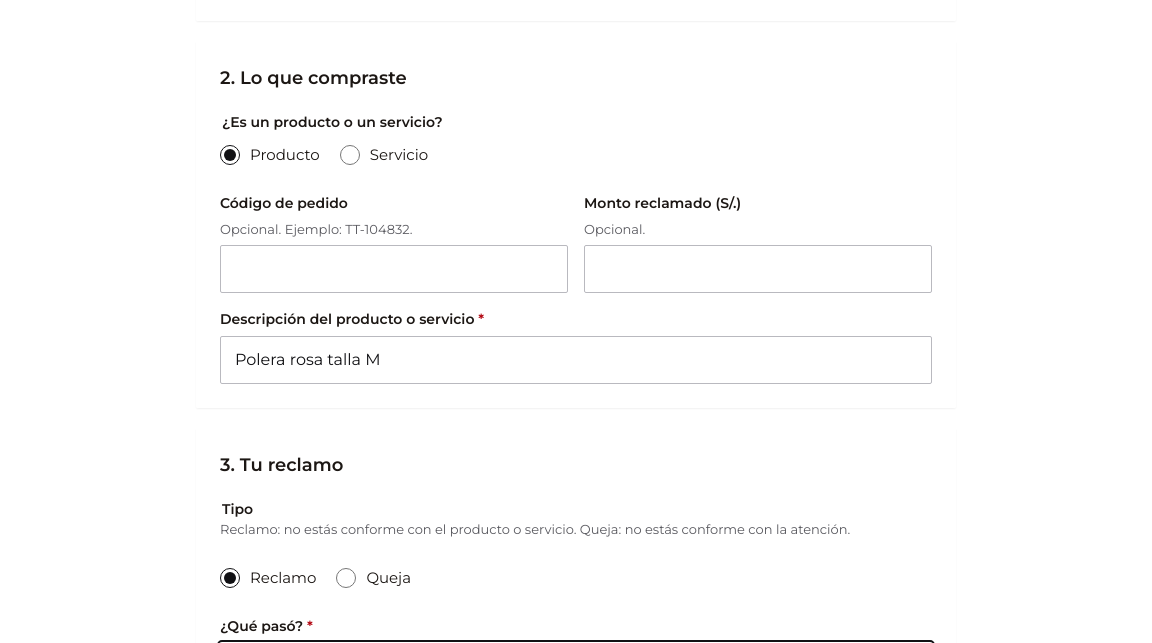
LibroReclamacionesPage › registra la hoja, muestra el código y permite empezar otra vacía
Earlier steps of the test are not shown.
(page scrolled)
Type keys "Llegó con una costura abierta en la manga."
(page scrolled)
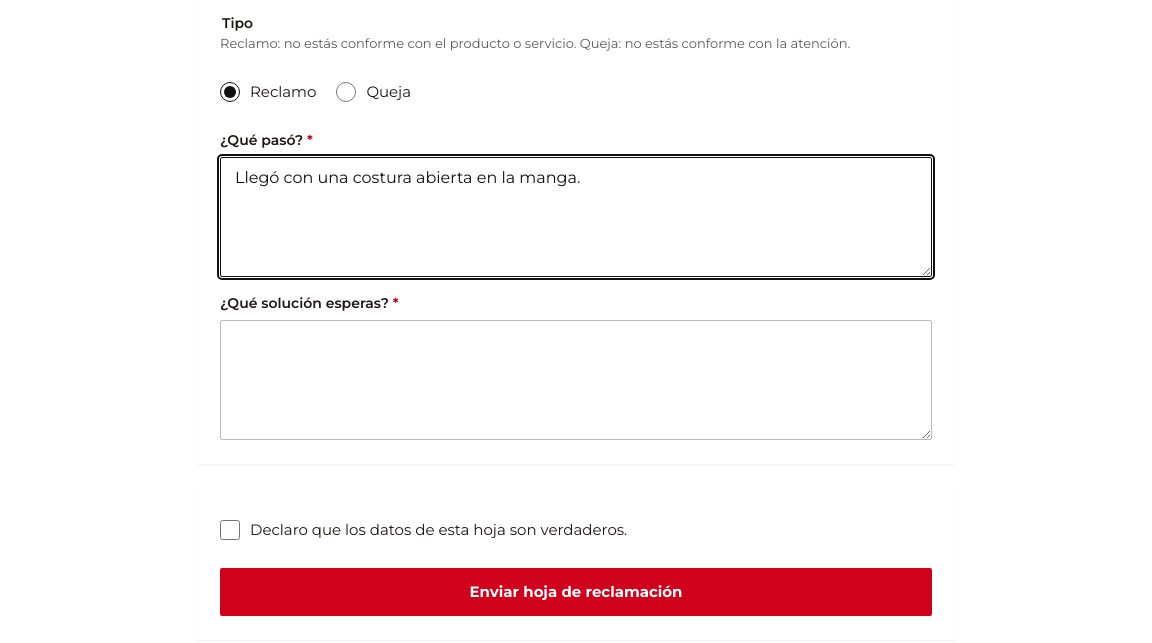
Click the text box labelled "¿Qué solución esperas?" at {"x": 576, "y": 380}, box top-left (220, 320), bottom-right (932, 440)
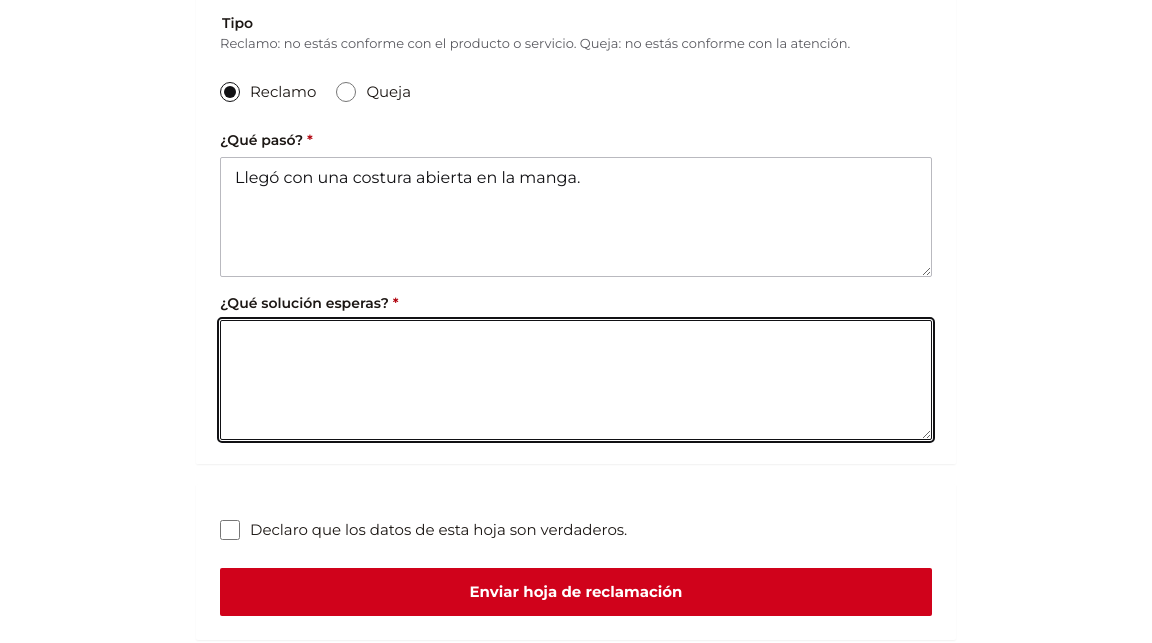
Type keys "Cambio por otra igual."
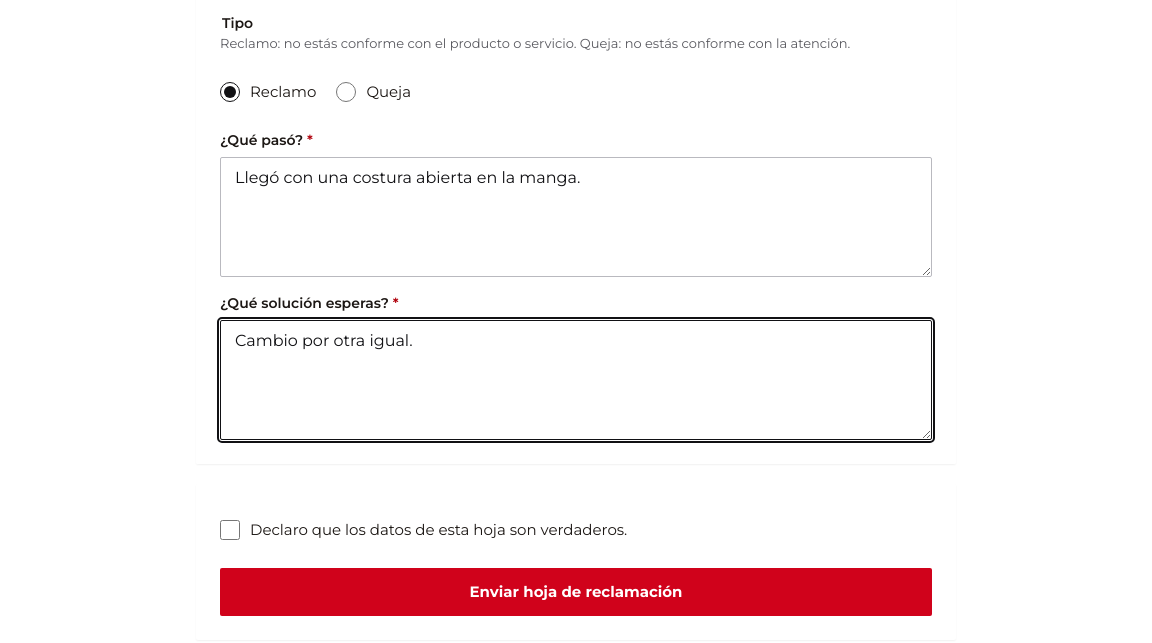
Click the checkbox labelled "Declaro que los datos de esta hoja son verdaderos." at {"x": 230, "y": 530}, box top-left (220, 520), bottom-right (240, 540)
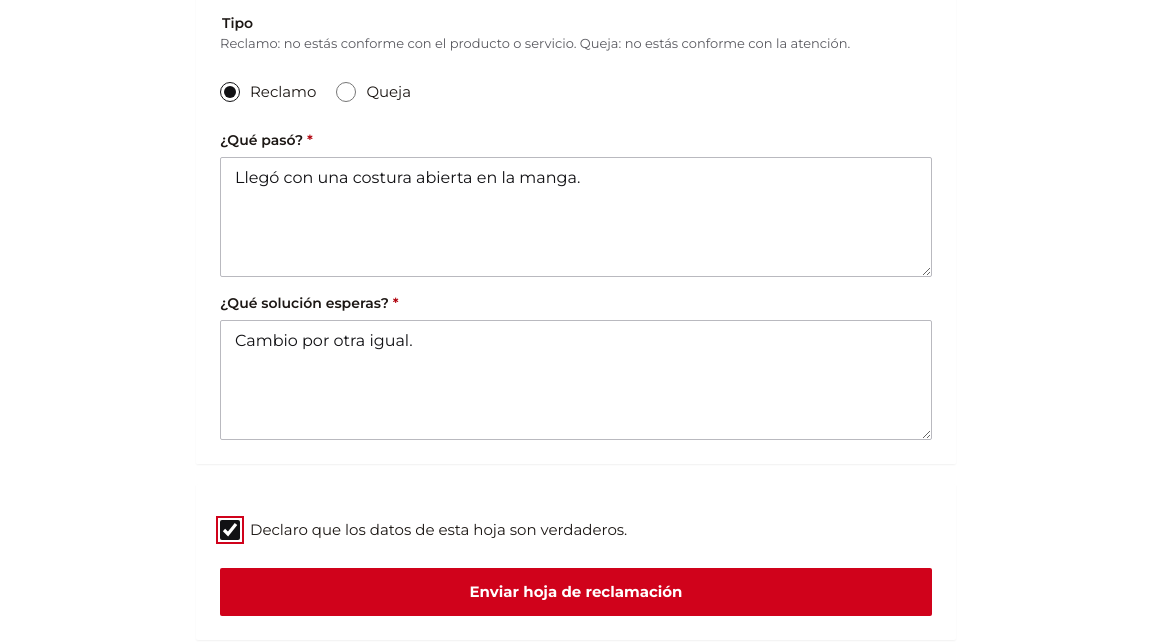
Click the button "Enviar hoja de reclamación" at {"x": 576, "y": 592}, box top-left (220, 568), bottom-right (932, 616)
(page scrolled)
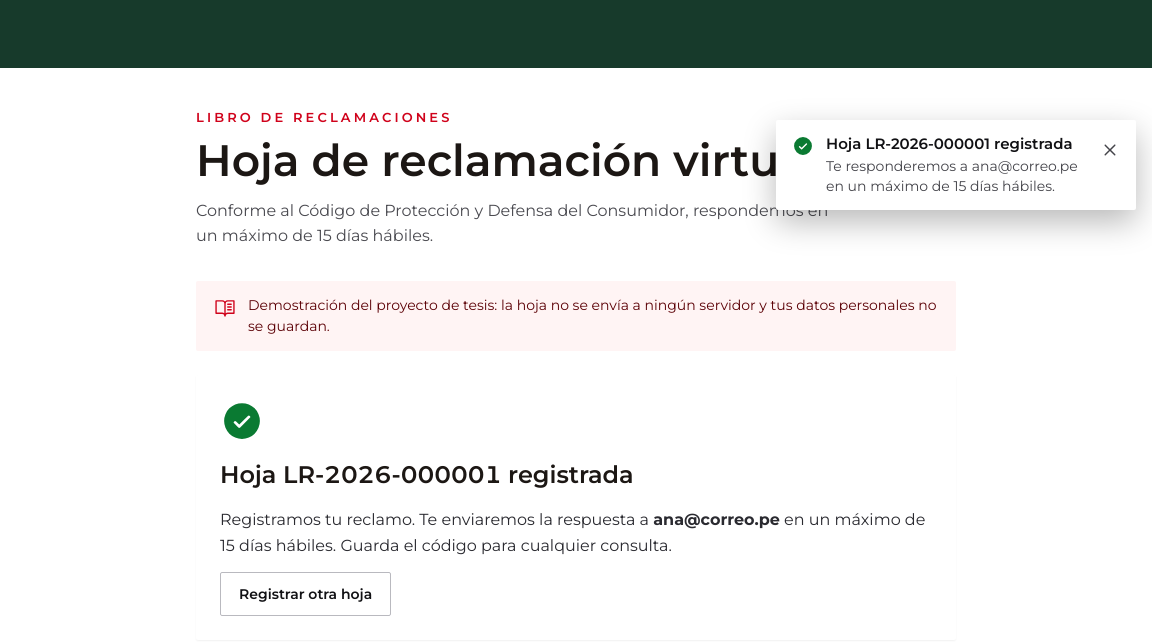
Result: the text "ana@correo.pe" is shown at top-left (653, 510), bottom-right (780, 529)
Result: the text "Te responderemos a ana@correo.pe" is shown at top-left (826, 157), bottom-right (1078, 195)
Click the button "Registrar otra hoja" at {"x": 306, "y": 594}, box top-left (220, 572), bottom-right (391, 616)
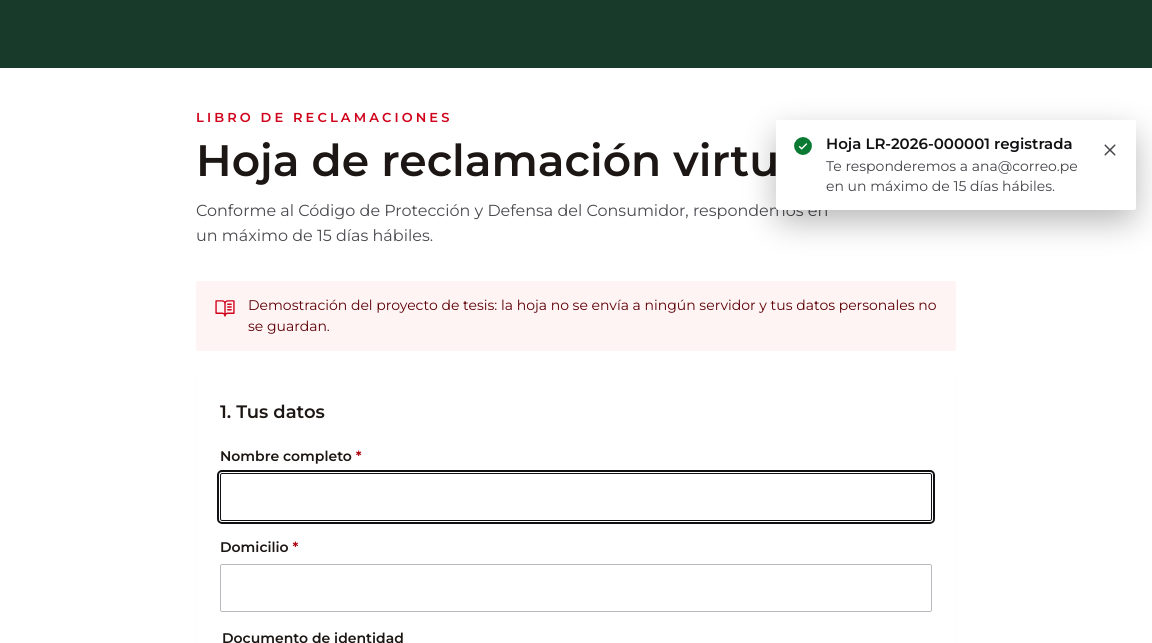
Result: the field labelled "Nombre completo" is empty at top-left (220, 473), bottom-right (932, 521)
